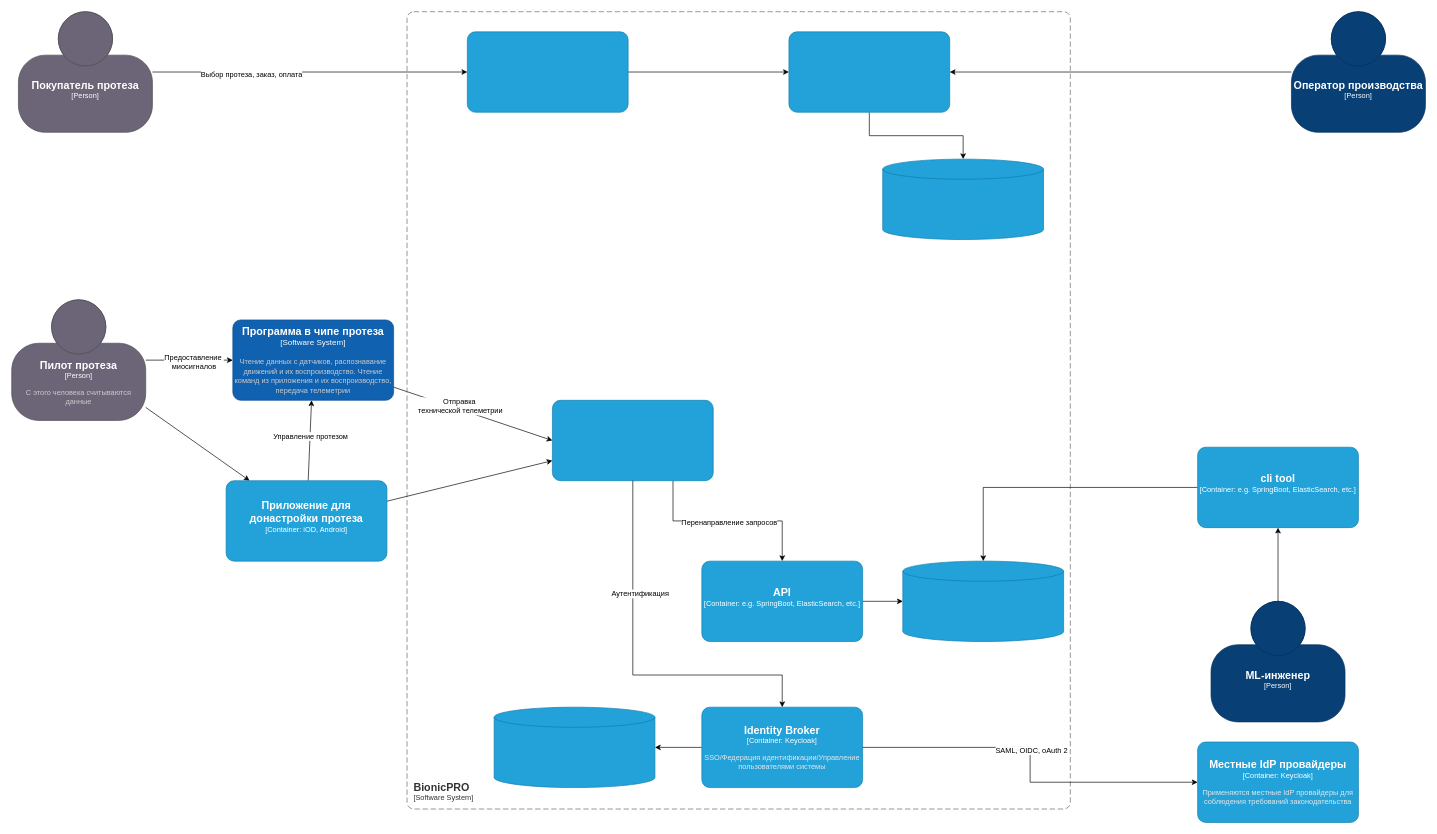
Some shapes in this 1437 by 834 pixel diagram are drawn without their labels. Each missing label, with the centre of its shape:
"API Gateway [Container: Spring cloud gateway]" belongs at [632,440].
"CRM [Container: Битрикс24]" belongs at [869,71].
"CRM DB [Container: e.g. Oracle Database 12]" belongs at [963,199].
"База данных [Container: PostgreSQL]" belongs at [983,601].
"База данных для хранения данных keycloak [Container: PostgreSQL]" belongs at [574,747].
"Интернет-магазин [Container: Битрикс24]" belongs at [547,71].
